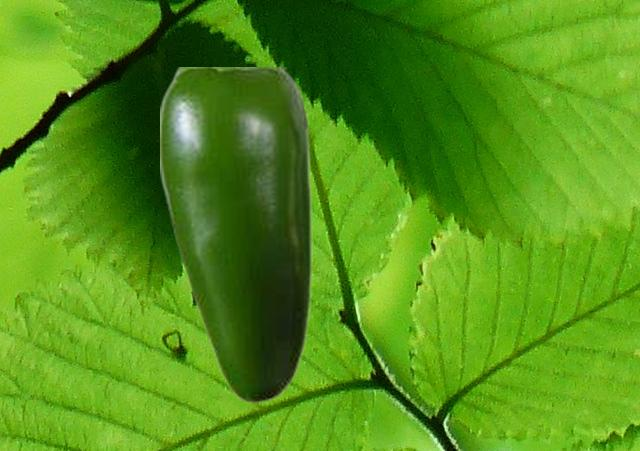green_chili: (160, 67, 311, 403)
